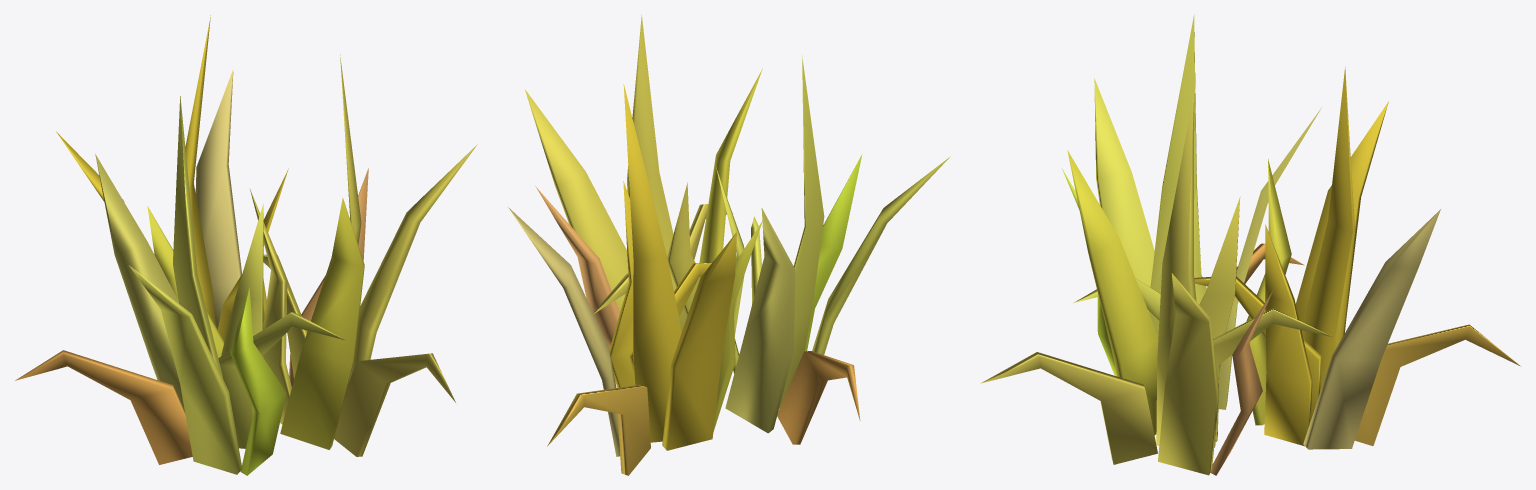
The model's file is grass_yellow.fbx.
3 views of the same model, side by side, from view 1: azimuth 30°, elevation 25°; view 2: azimuth 150°, elevation 25°; view 3: azimuth 270°, elevation 25° (orthographic). The views are drawn at different scales.
Parts seen in each view (by area): view 1: Cube.001; view 2: Cube.001; view 3: Cube.001.
Boxes of the visible parts, left/top/right/bottom form: Cube.001: left=15, top=15, right=477, bottom=475; Cube.001: left=508, top=14, right=950, bottom=475; Cube.001: left=981, top=14, right=1520, bottom=475.
Size of the model in its own units: 139 by 126 by 159.
